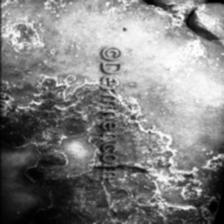Non-Cancerous Skin Condition: (0, 0, 98, 91), (120, 155, 224, 224), (0, 92, 95, 148)
